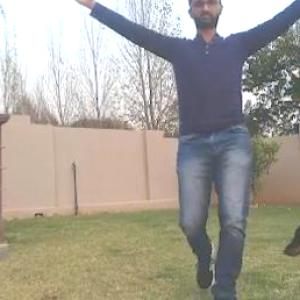takeoff: (61, 0, 299, 290)
